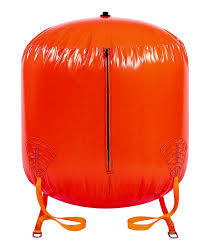buoy: (22, 17, 189, 209)
